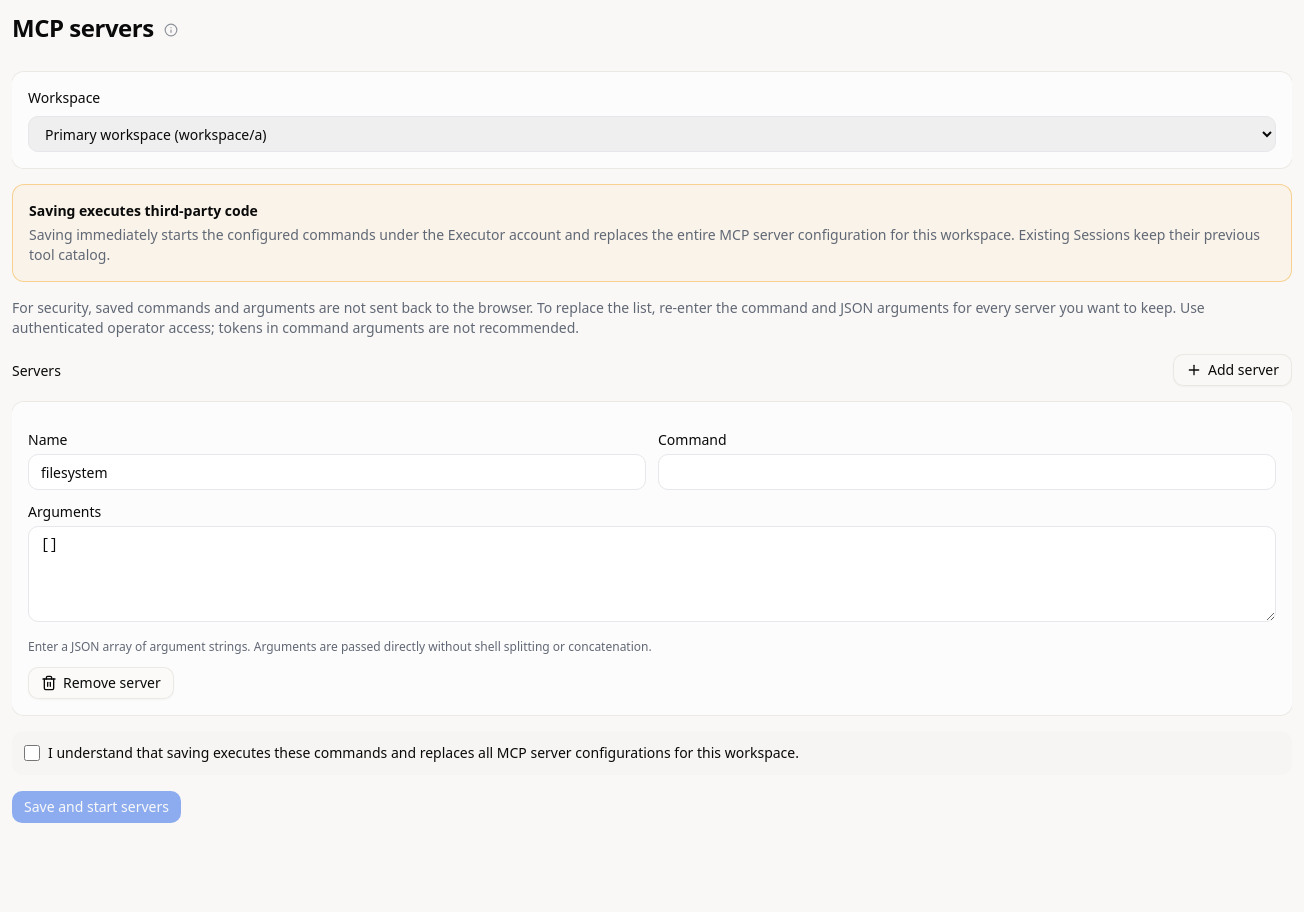
McpSection › loads a workspace configuration and replaces it with structured arguments
Expected: the element with test id "settings-mcp-warning" shows "executes third-party code", [29, 201, 258, 220]
Expected: the text box named "Server 1 arguments" holds "[]", [28, 526, 1276, 622]
Replace the text in the field named "Server 1 name" with "github": (337, 472) [28, 454, 646, 490]
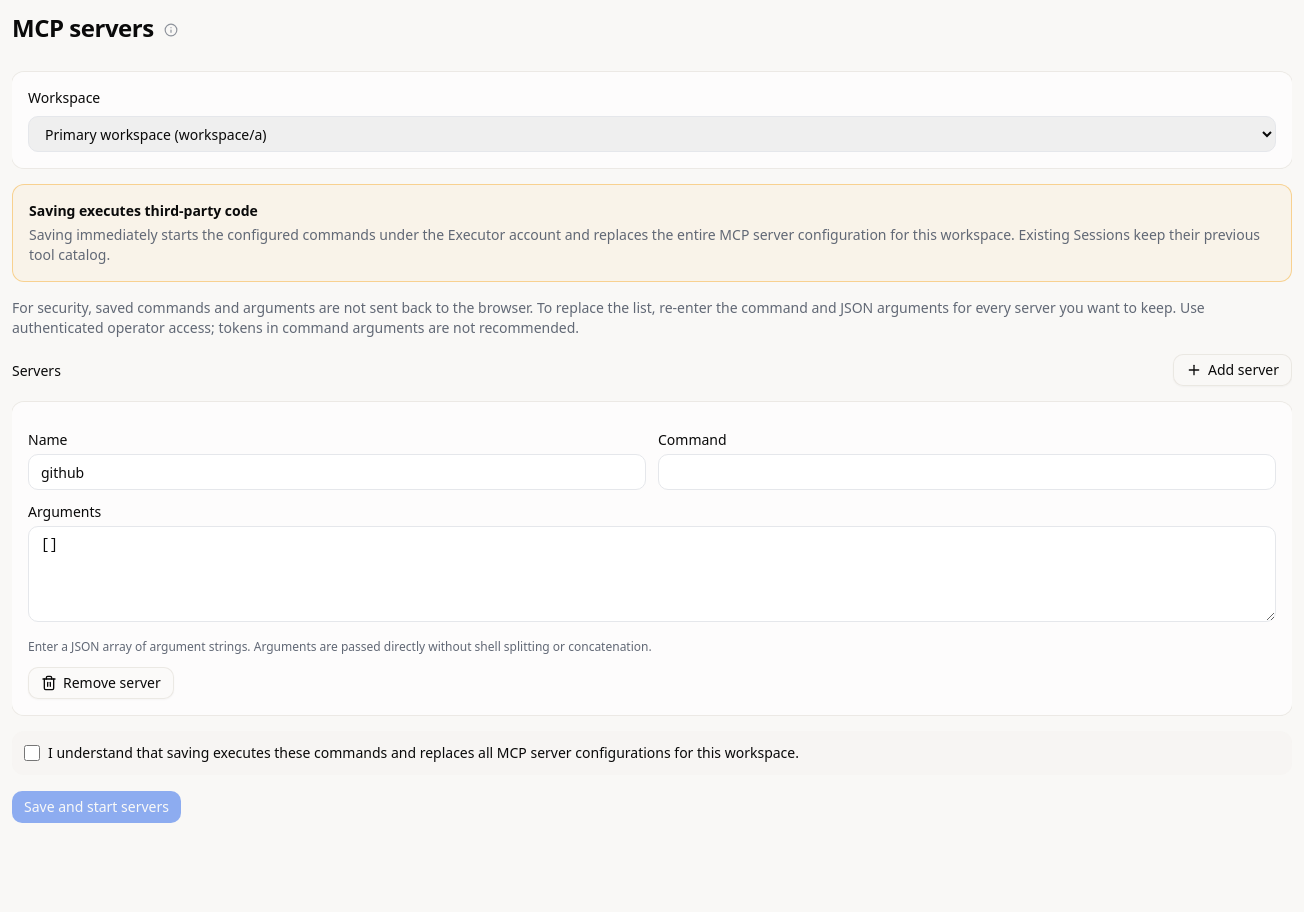
In the field named "Server 1 command": (967, 472) [658, 454, 1276, 490], type "node"
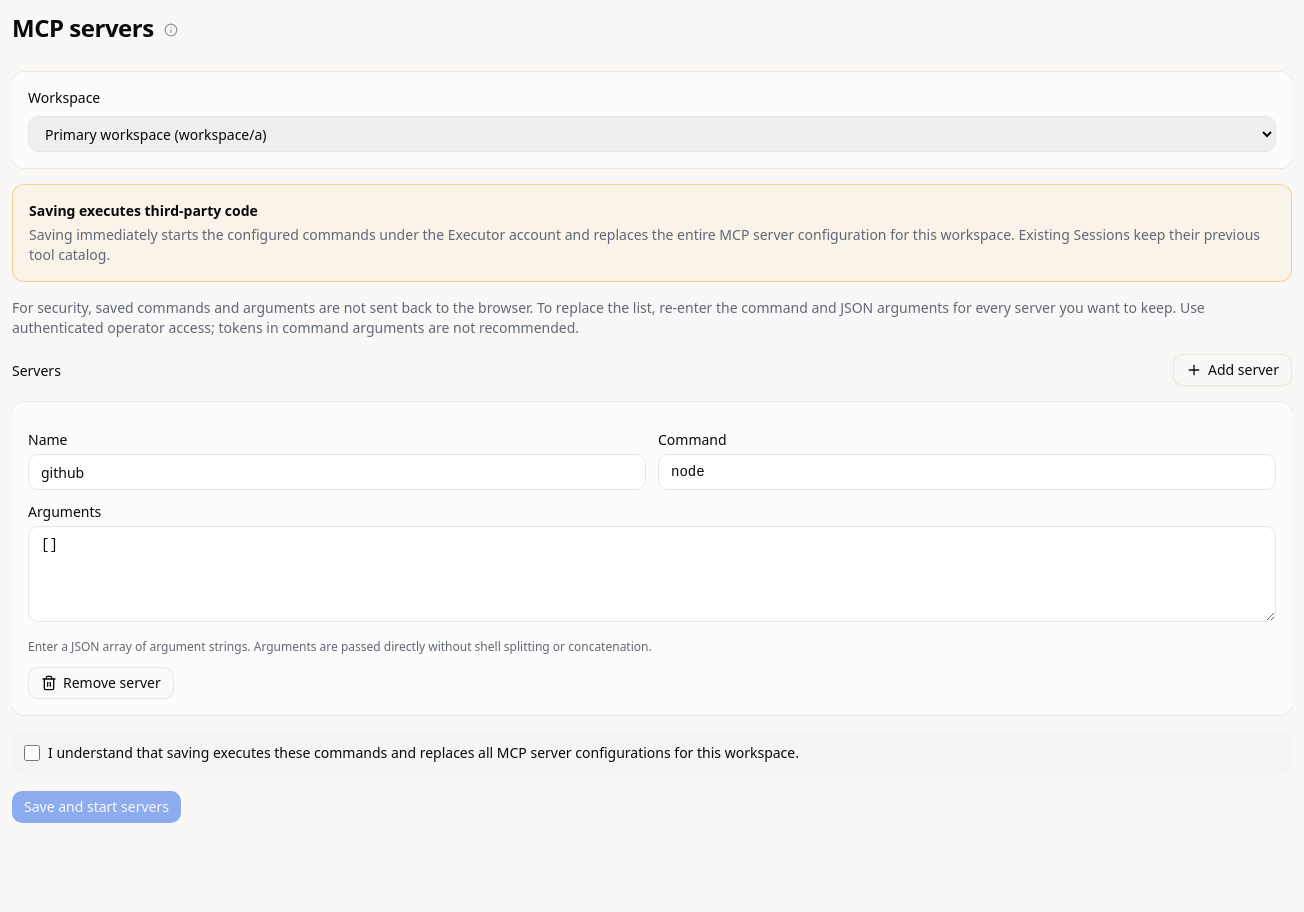
Replace the text in the text box named "Server 1 arguments" with "[\"server.js\", \"--read-only\"]": (652, 574) [28, 526, 1276, 622]
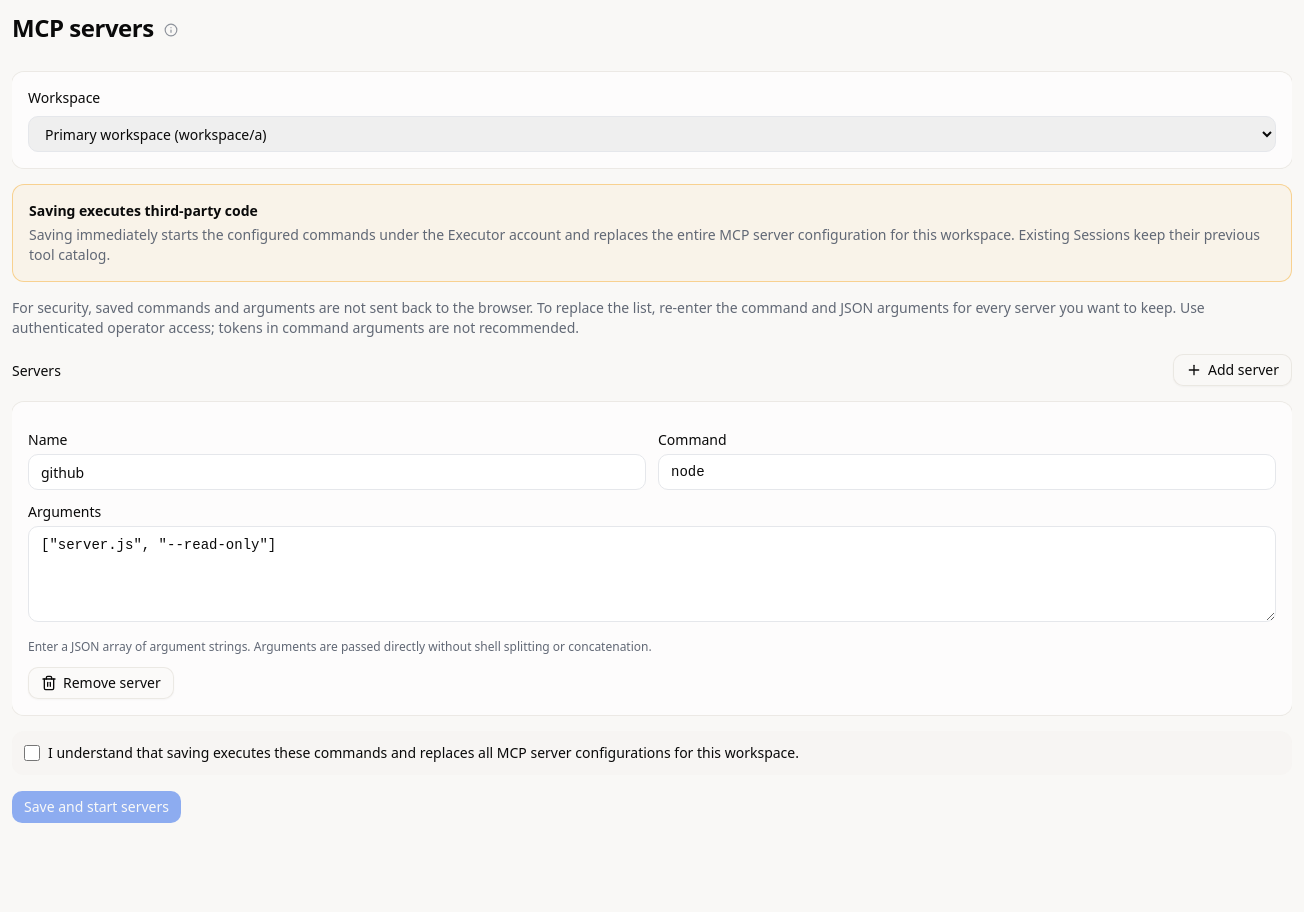
Click the checkbox labelled "I understand that saving executes these commands": (32, 753) [24, 745, 40, 761]
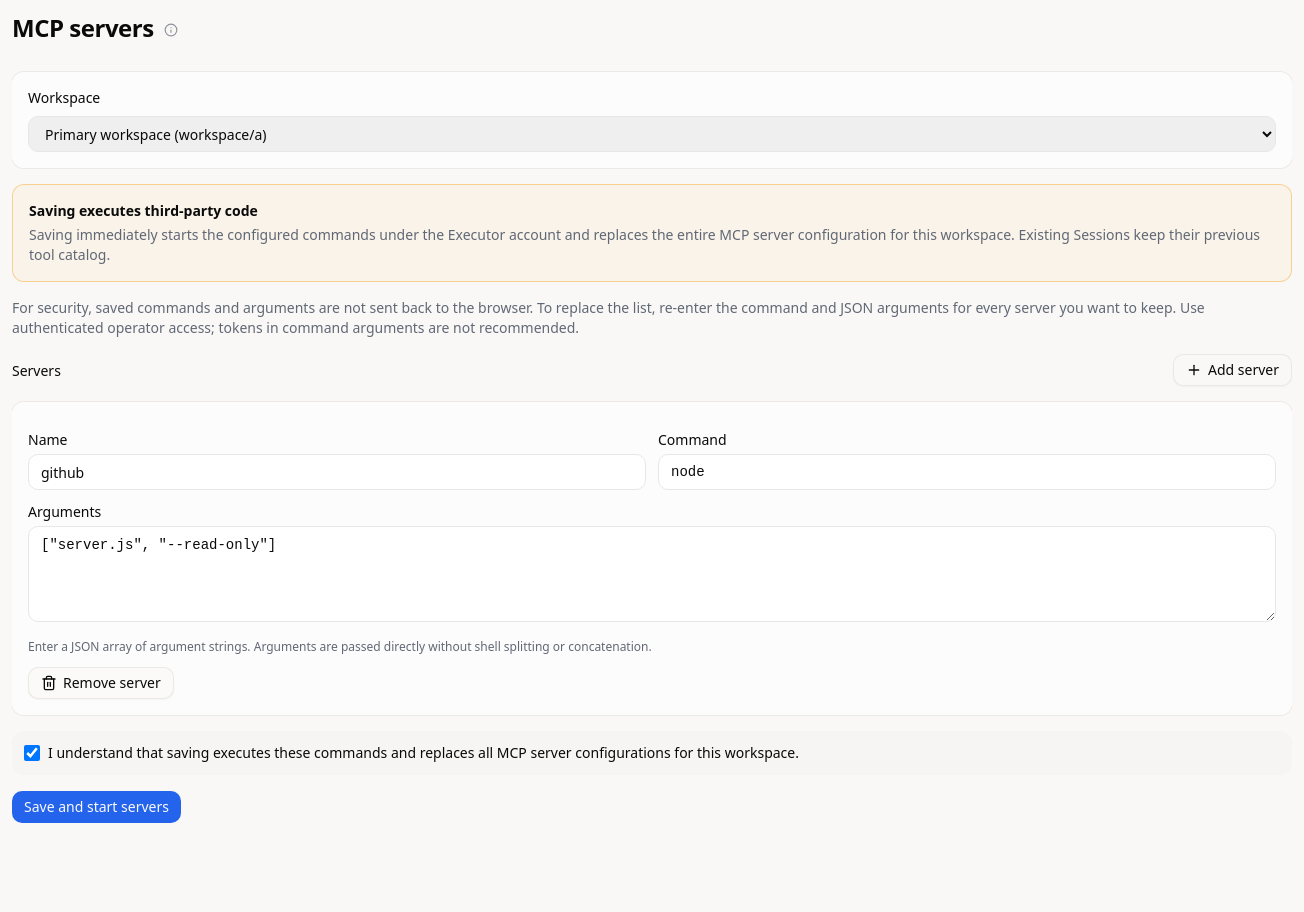
Click the button with test id "settings-mcp-save": (96, 807) [12, 791, 181, 823]
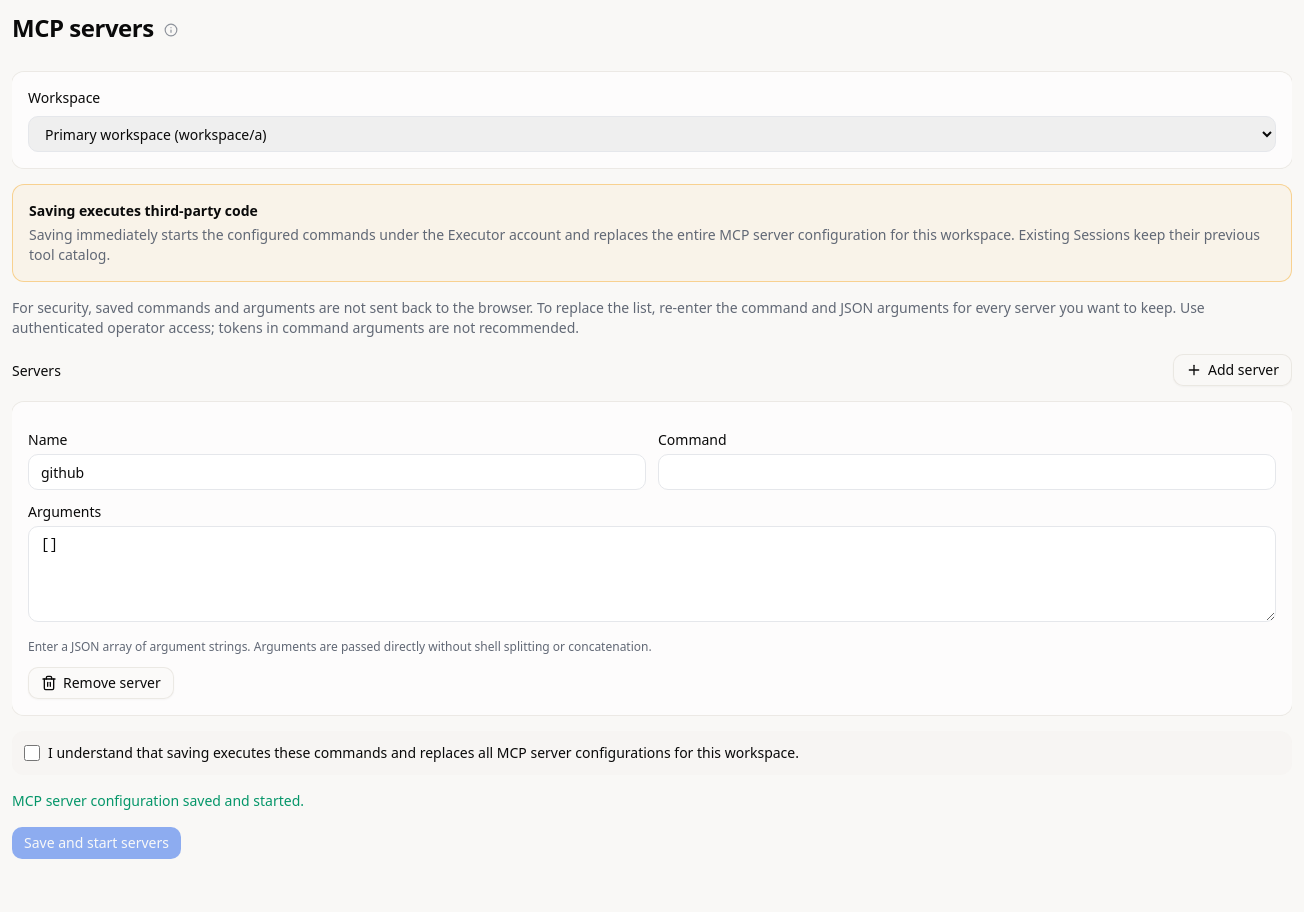
Expected: the text "MCP server configuration saved and started." is shown, [12, 791, 304, 810]
